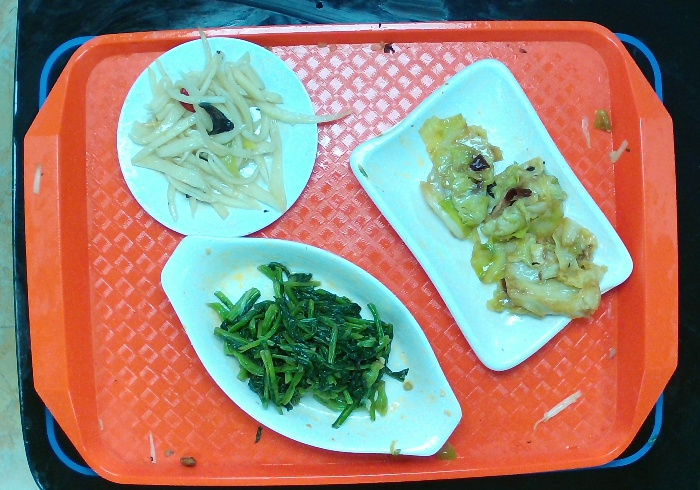RJxy-Si_Fang_Ao_Bian_Wan: (345, 54, 639, 371)
RJxy-Xiao_Yuan_Die: (112, 32, 320, 234)
RJxy-Yu_Pan: (155, 228, 466, 458)
